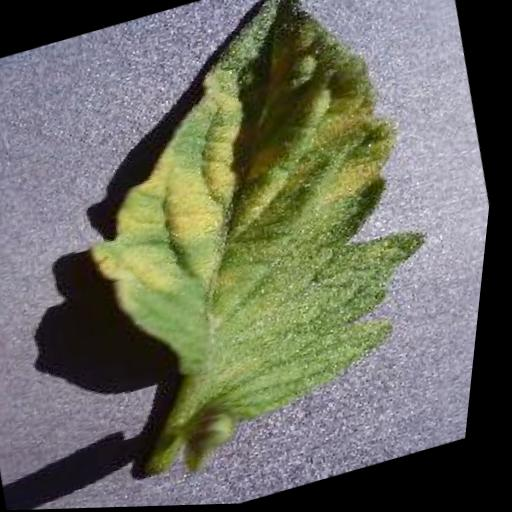Leaf Mold: (25, 0, 483, 457)
